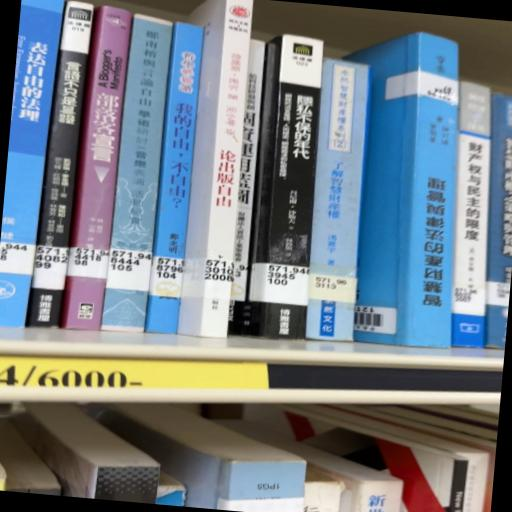reverse: (346, 34, 460, 349)
